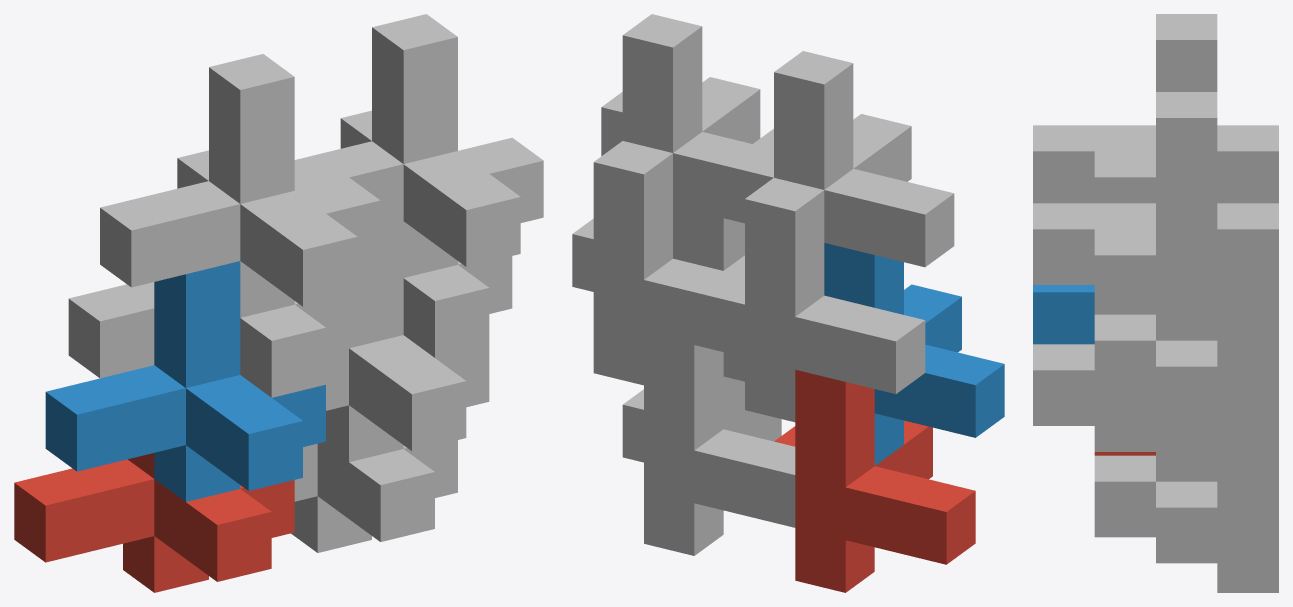
The model's file is tiling.obj.
The picture shows the model from 3 angles, left to right: view 1: azimuth 30°, elevation 25°; view 2: azimuth 150°, elevation 25°; view 3: azimuth 270°, elevation 25°; orthographic projection. The views are drawn at different scales.
Parts seen in each view (by area): view 1: copy_1_domain_4, copy_1_domain_2, copy_1_domain_8, copy_1_domain_1, copy_1_domain_6, copy_1_domain_3, copy_1_domain_5, copy_1_domain_7; view 2: copy_1_domain_1, copy_1_domain_3, copy_1_domain_5, copy_1_domain_7, copy_1_domain_4, copy_1_domain_8, copy_1_domain_2, copy_1_domain_6; view 3: copy_1_domain_8, copy_1_domain_7, copy_1_domain_5, copy_1_domain_4, copy_1_domain_6, copy_1_domain_3, copy_1_domain_2.
Part boxes in pixels (x1=…): copy_1_domain_4: x1=100, y1=54, x2=380, y2=317; copy_1_domain_2: x1=45, y1=261, x2=325, y2=501; copy_1_domain_8: x1=294, y1=14, x2=543, y2=277; copy_1_domain_1: x1=14, y1=453, x2=294, y2=592; copy_1_domain_6: x1=322, y1=221, x2=489, y2=461; copy_1_domain_3: x1=68, y1=150, x2=348, y2=397; copy_1_domain_5: x1=291, y1=440, x2=457, y2=552; copy_1_domain_7: x1=340, y1=110, x2=512, y2=357; copy_1_domain_1: x1=774, y1=369, x2=975, y2=592; copy_1_domain_3: x1=724, y1=178, x2=925, y2=422; copy_1_domain_5: x1=622, y1=333, x2=795, y2=555; copy_1_domain_7: x1=572, y1=141, x2=744, y2=385; copy_1_domain_4: x1=753, y1=51, x2=954, y2=267; copy_1_domain_8: x1=601, y1=14, x2=773, y2=223; copy_1_domain_2: x1=824, y1=243, x2=1004, y2=465; copy_1_domain_6: x1=673, y1=206, x2=747, y2=428; copy_1_domain_8: x1=1033, y1=92, x2=1217, y2=340; copy_1_domain_7: x1=1094, y1=203, x2=1278, y2=451; copy_1_domain_5: x1=1094, y1=452, x2=1278, y2=592; copy_1_domain_4: x1=1033, y1=14, x2=1217, y2=203; copy_1_domain_6: x1=1033, y1=344, x2=1217, y2=481; copy_1_domain_3: x1=1094, y1=125, x2=1278, y2=314; copy_1_domain_2: x1=1033, y1=285, x2=1094, y2=344.
Bounding box in the file's own units: 8 × 9 × 4.
